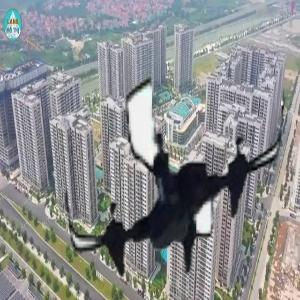drone: (54, 49, 297, 292)
